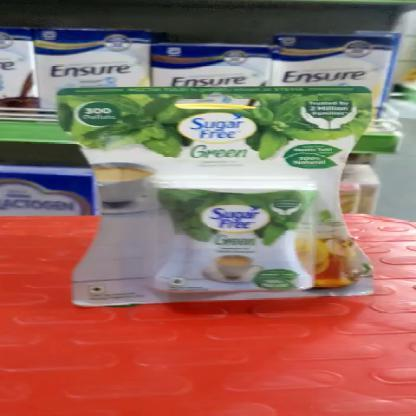SUGAR FREE GRN 300 PELLET: (71, 86, 376, 306)
